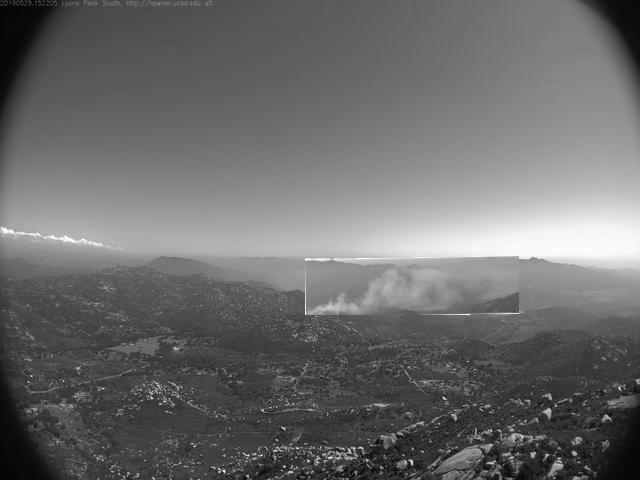smoke: (306, 258, 521, 317)
